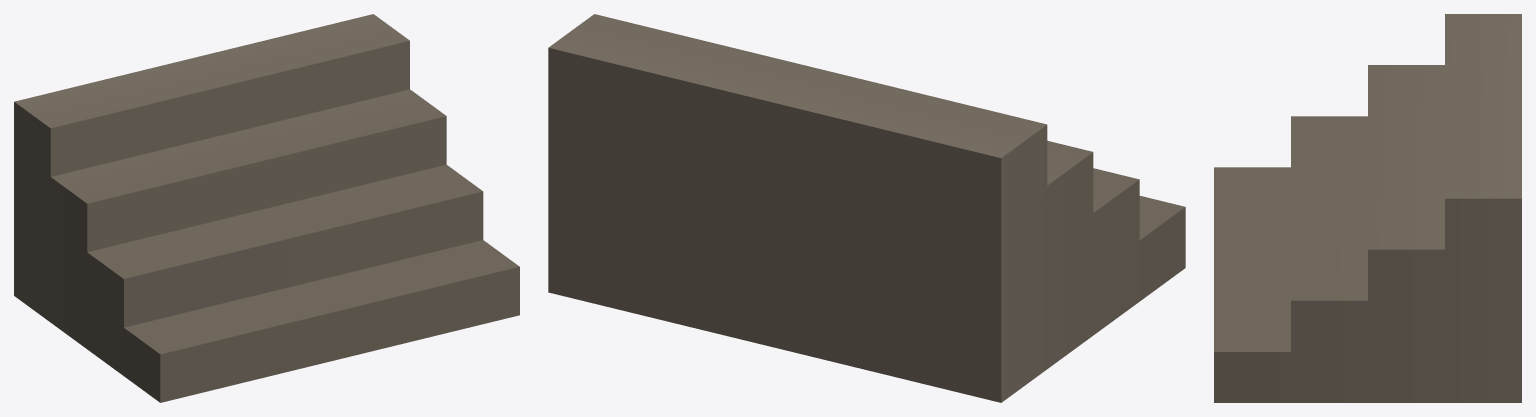
Rendered from Shrine_Stairs_Mid.fbx.
3 renders of one model, left to right at view 1: azimuth 30°, elevation 25°; view 2: azimuth 150°, elevation 25°; view 3: azimuth 270°, elevation 25°, orthographic. The views are drawn at different scales.
Parts seen in each view (by area): view 1: Shrine_Stairs_Mid; view 2: Shrine_Stairs_Mid; view 3: Shrine_Stairs_Mid.
Part boxes in pixels (x1=…): Shrine_Stairs_Mid: x1=14, y1=14, x2=519, y2=402; Shrine_Stairs_Mid: x1=548, y1=14, x2=1185, y2=402; Shrine_Stairs_Mid: x1=1214, y1=14, x2=1521, y2=402.
Bounding box in the file's own units: 1.16 × 0.6 × 0.8192.
Materials: 1 (1 with a texture image).
